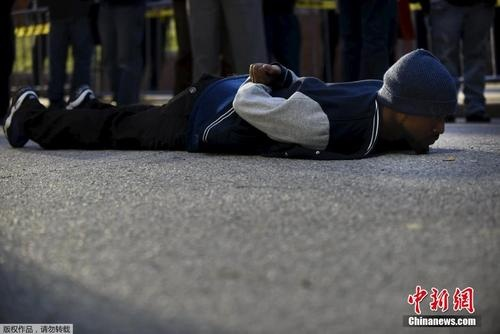falling: (0, 54, 462, 163)
